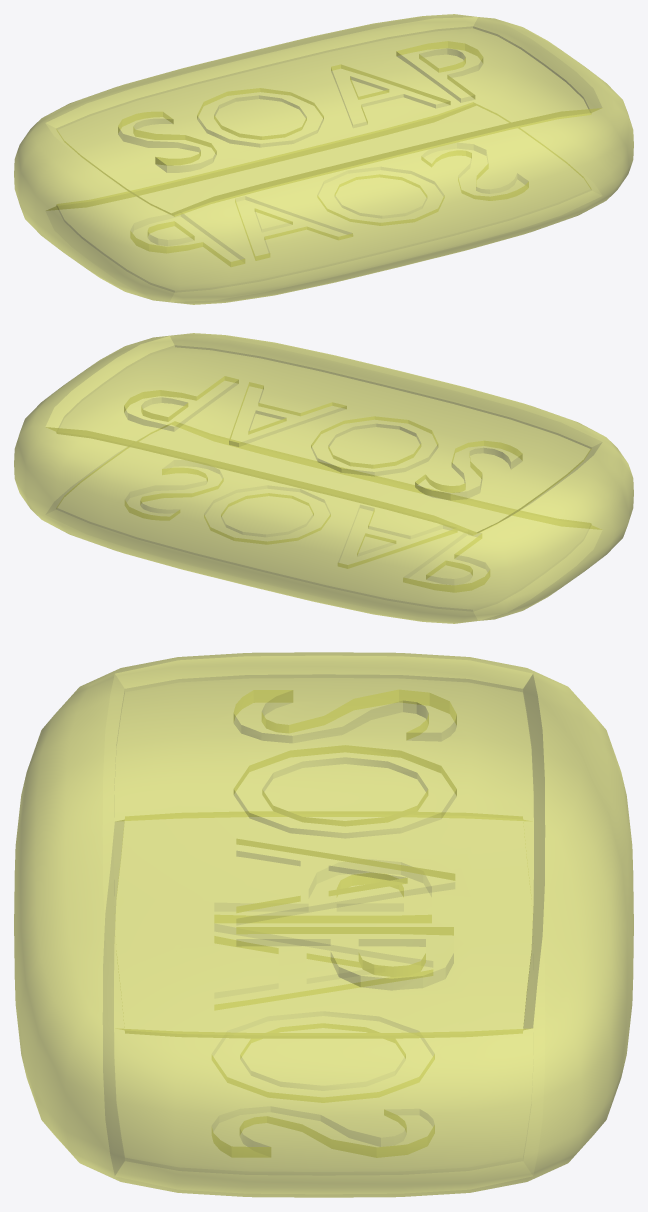
Rendered from Soap.glb.
The picture shows the model from 3 angles, top to bottom: view 1: azimuth 30°, elevation 25°; view 2: azimuth 150°, elevation 25°; view 3: azimuth 270°, elevation 25°; orthographic projection. The views are drawn at different scales.
Parts seen in each view (by area): view 1: Soap; view 2: Soap; view 3: Soap.
Part boxes in pixels (bbox=[...]): Soap: bbox=[14, 14, 633, 304]; Soap: bbox=[14, 333, 633, 623]; Soap: bbox=[14, 652, 633, 1197].
Bounding box in the file's own units: 0.05 × 0.01 × 0.03.
